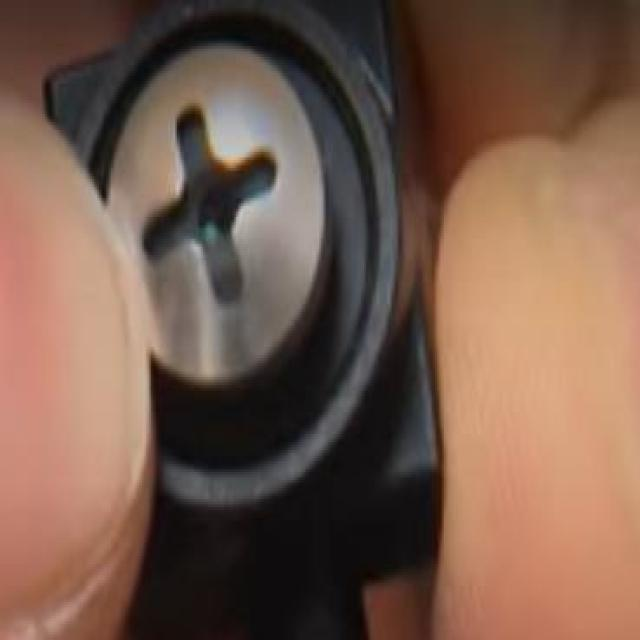hidden camera: (196, 177, 239, 246)
